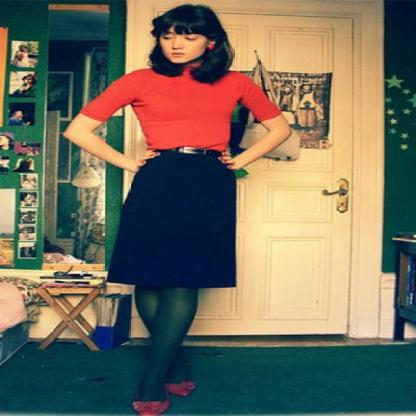shirt: (80, 68, 294, 156)
shoe: (131, 382, 193, 416)
skirt: (104, 147, 236, 288)
